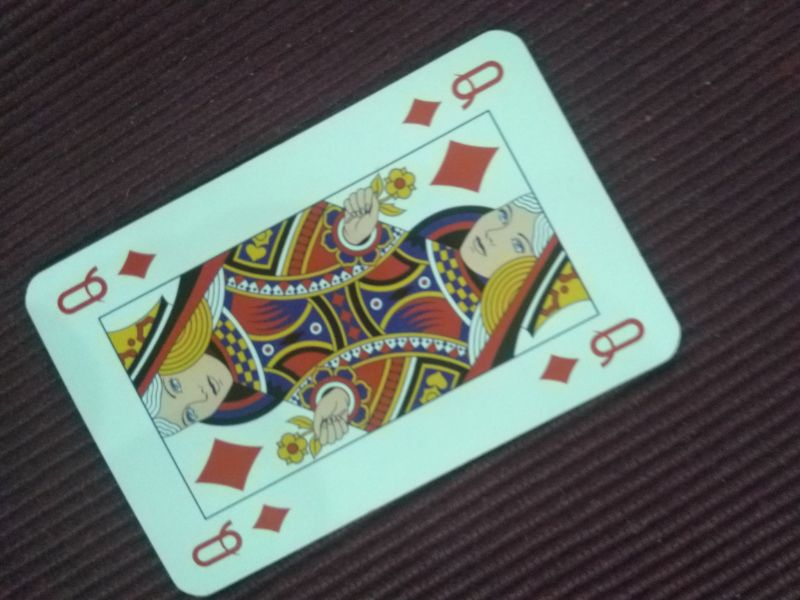Qd: (399, 57, 505, 131), (53, 247, 159, 321), (536, 316, 646, 386), (188, 499, 292, 569)
